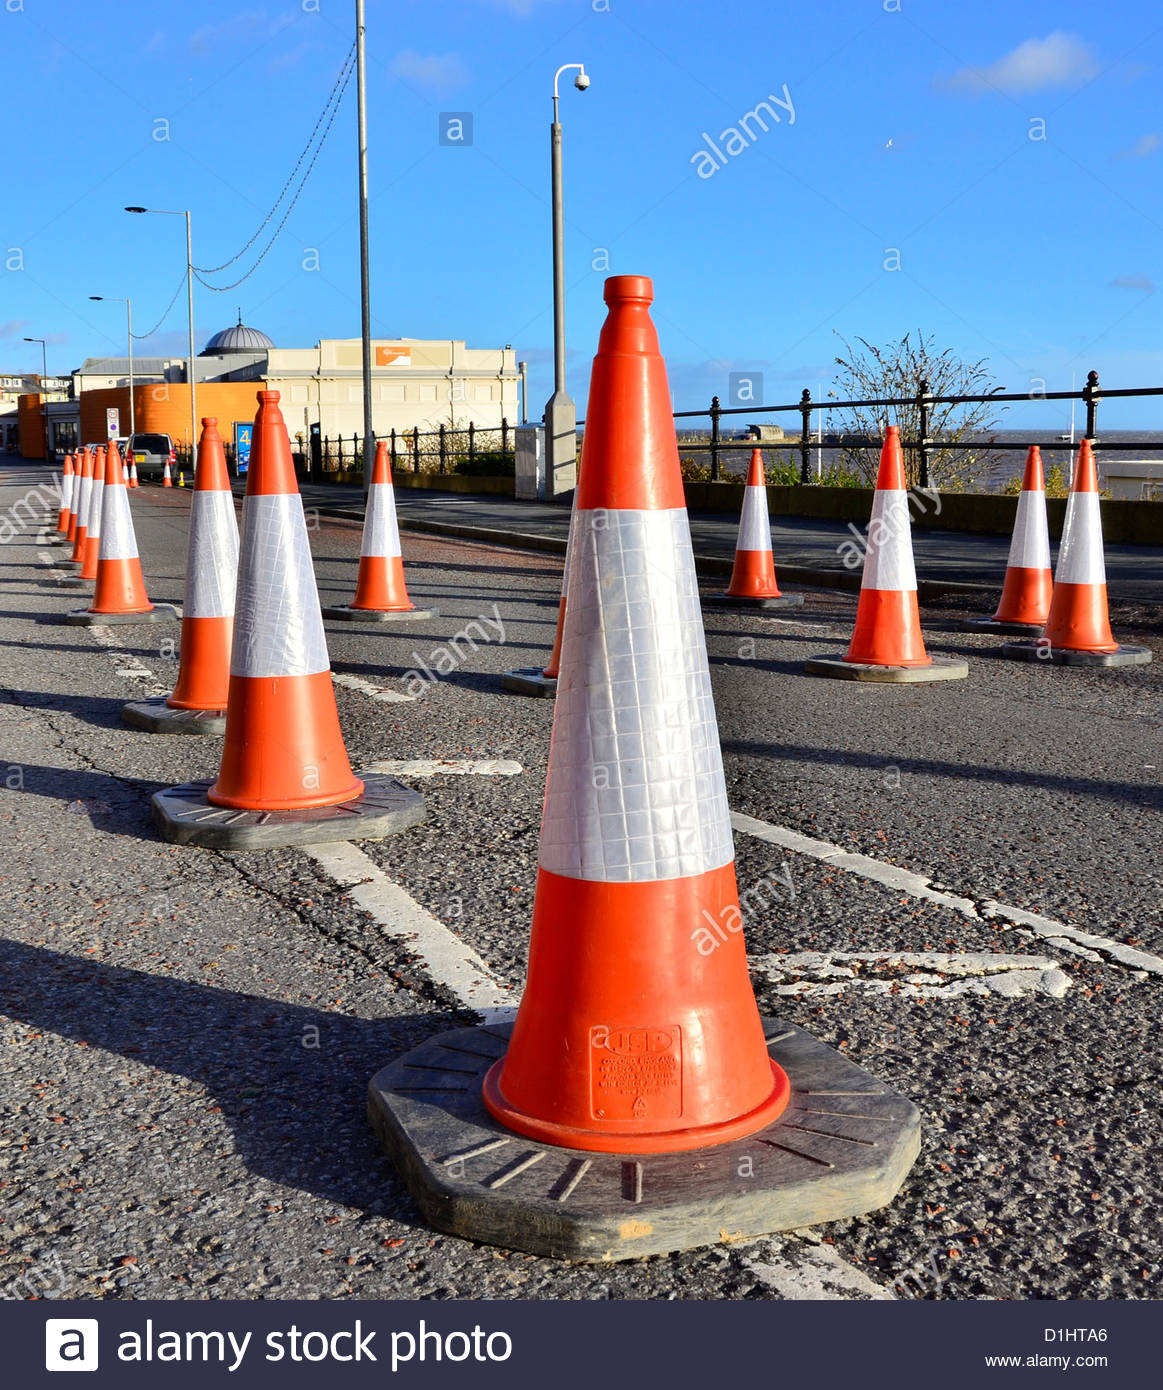cone: (366, 277, 931, 1254), (148, 390, 434, 850), (124, 419, 299, 742), (803, 425, 968, 686), (1002, 439, 1153, 675), (321, 443, 443, 632), (65, 440, 180, 630), (699, 447, 815, 619), (974, 440, 1059, 650)
